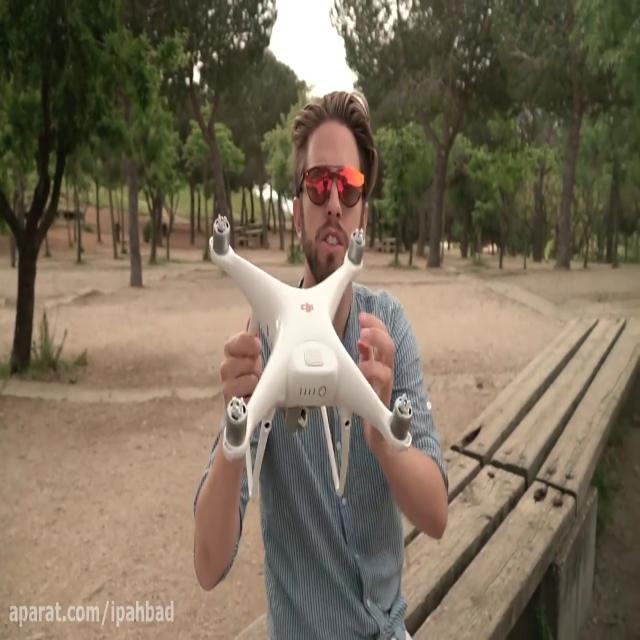drone: (207, 208, 413, 495)
